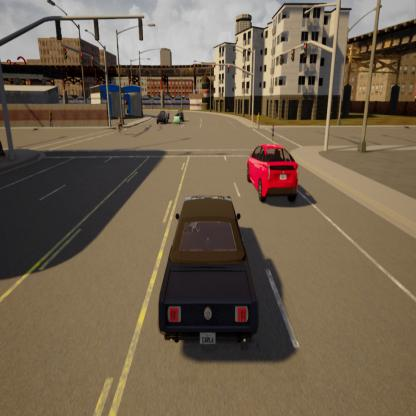Cars: (150, 186, 258, 365), (245, 138, 300, 210), (156, 107, 170, 124), (174, 111, 181, 122)
Pedestrian: (270, 125, 278, 139), (256, 111, 261, 129), (48, 112, 54, 126)
